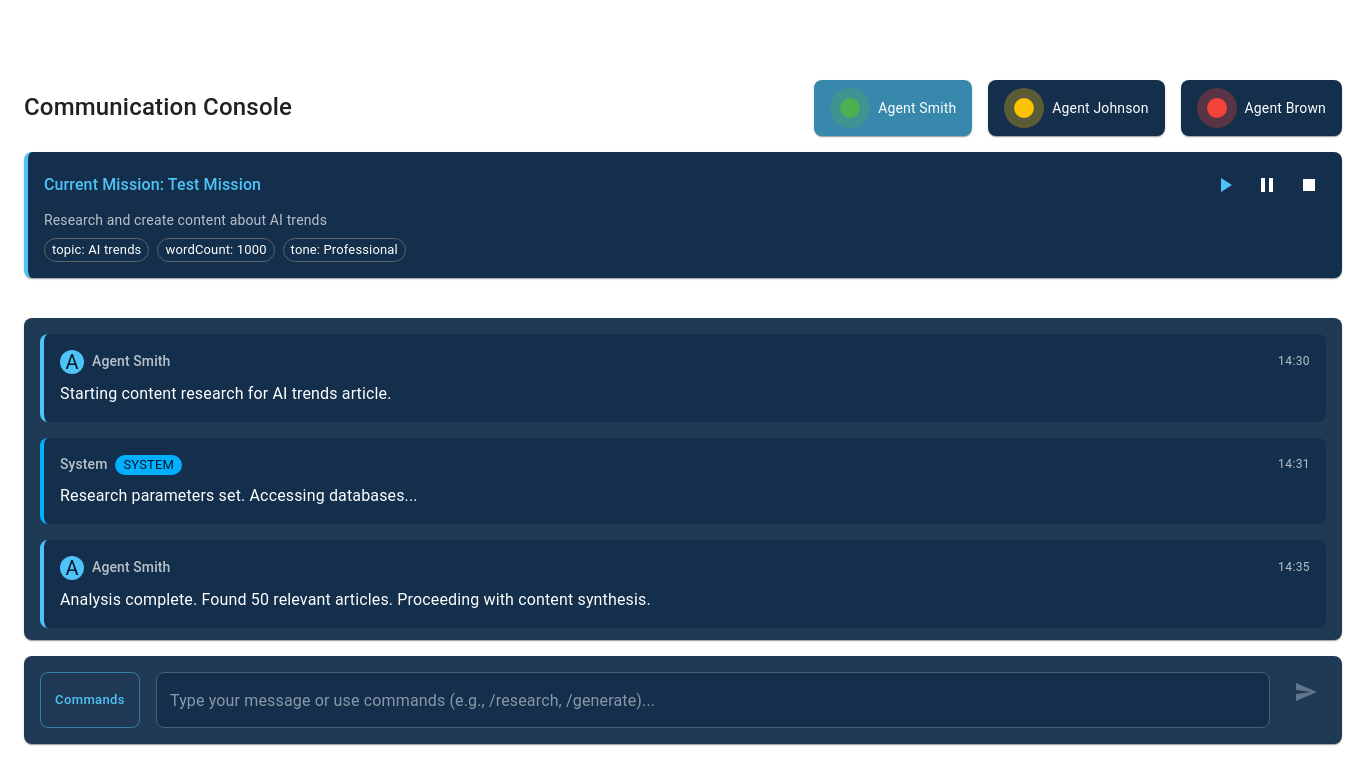
Chat › shows command templates menu
The width and height of the screenshot is (1366, 768).
Step 1. Click the button "Commands" → click(90, 700), box [40, 672, 140, 728]
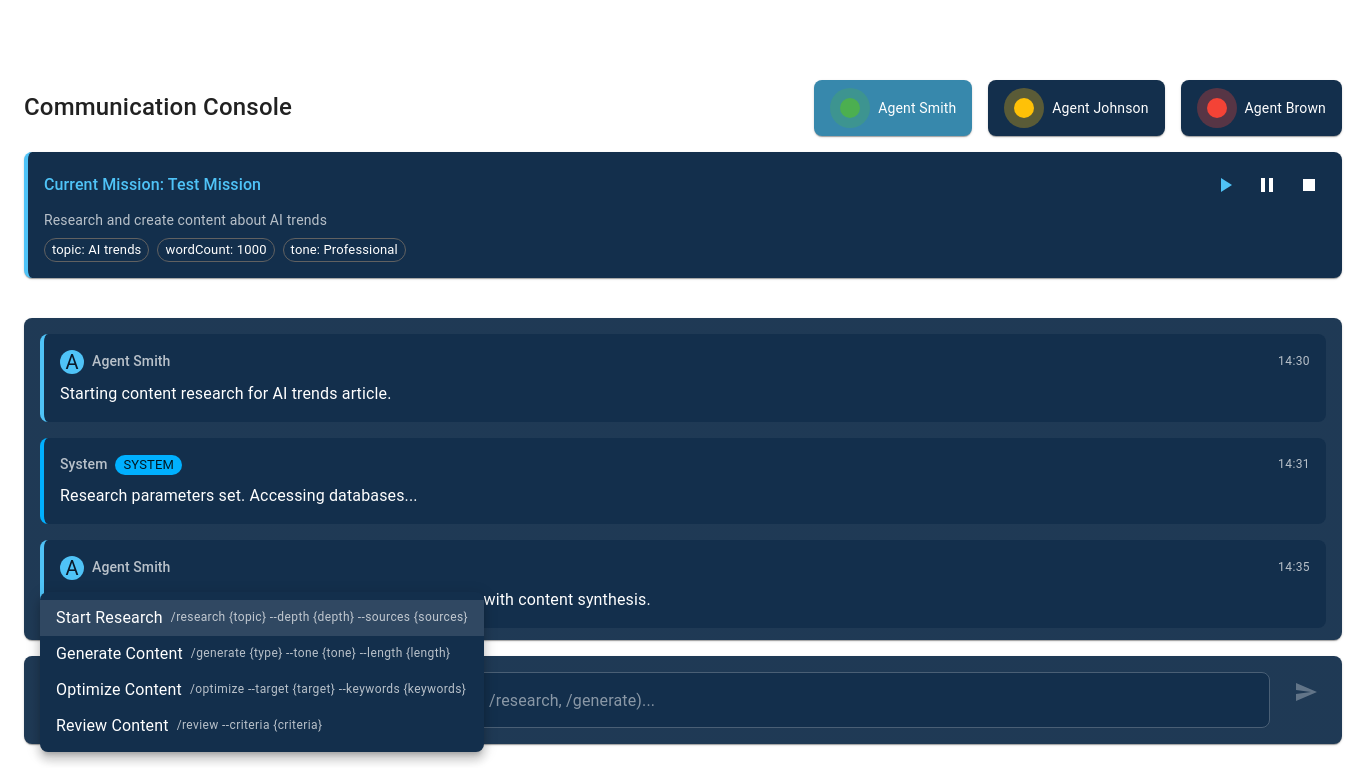
Check: the menu is shown, box [40, 592, 484, 752]
Check: the menu item "Research" is shown, box [40, 600, 484, 636]
